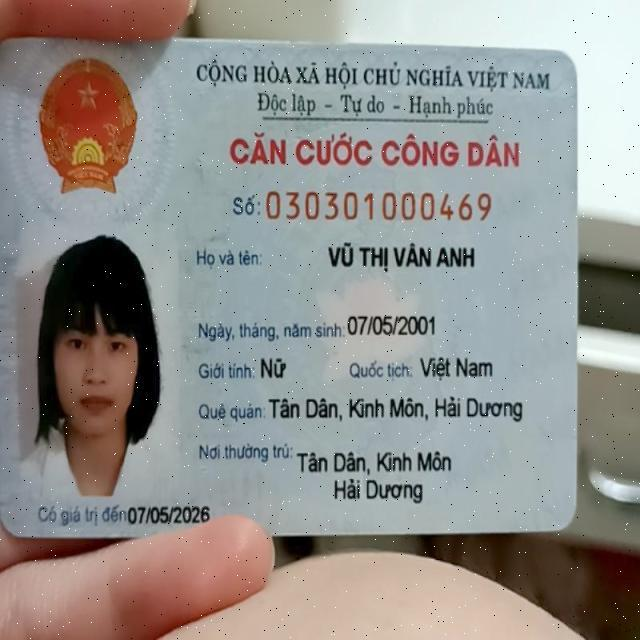current_place: (295, 445, 457, 477), (329, 477, 430, 505)
dob: (346, 311, 441, 342)
expire_date: (127, 502, 210, 526)
gender: (258, 354, 288, 385)
id: (264, 181, 498, 225)
name: (319, 238, 480, 278)
nationality: (419, 354, 496, 381)
origin_place: (267, 391, 528, 424)
